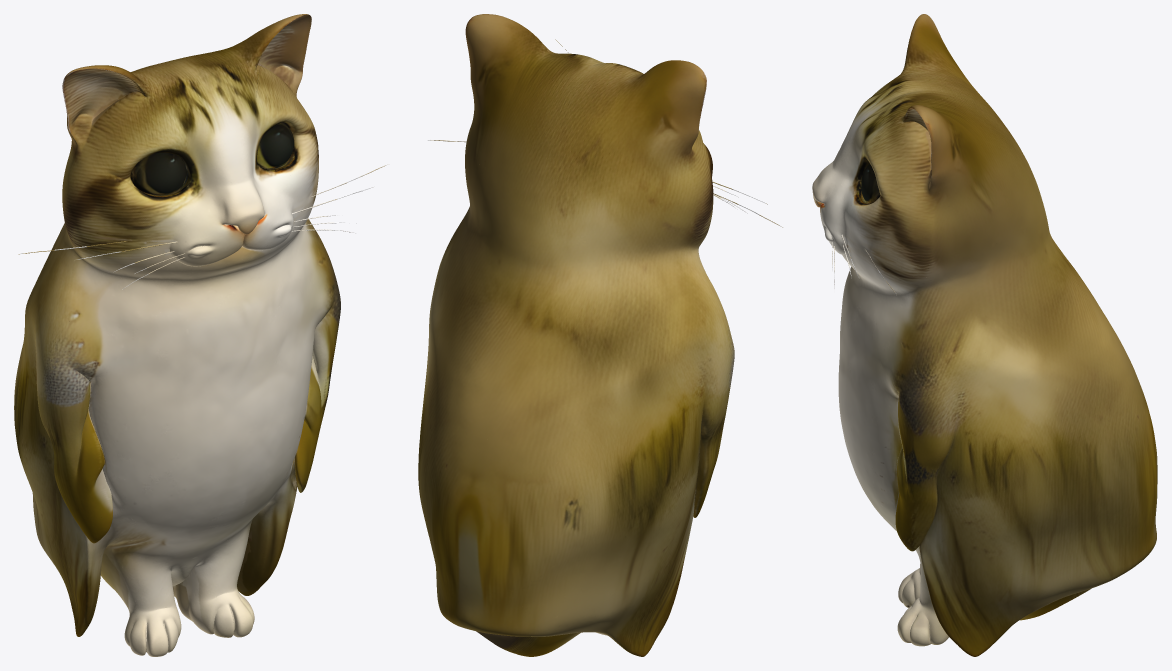
Rendered from meowl.glb.
The picture shows the model from 3 angles, left to right: view 1: azimuth 30°, elevation 25°; view 2: azimuth 150°, elevation 25°; view 3: azimuth 270°, elevation 25°; orthographic projection. The views are drawn at different scales.
Visible parts, largest first — view 1: Object_3, Object_4, Object_5, Object_6, Object_7, Object_8; view 2: Object_5, Object_4, Object_3, Object_6, Object_7, Object_8; view 3: Object_4, Object_6, Object_5, Object_7, Object_3, Object_8.
Boxes of the visible parts, bbox=[...] form: Object_3: bbox=[26, 65, 312, 542]; Object_4: bbox=[14, 14, 340, 576]; Object_5: bbox=[14, 15, 339, 655]; Object_6: bbox=[15, 38, 338, 656]; Object_7: bbox=[18, 14, 388, 656]; Object_8: bbox=[28, 34, 337, 604]; Object_5: bbox=[418, 28, 730, 647]; Object_4: bbox=[439, 14, 734, 595]; Object_3: bbox=[484, 66, 767, 511]; Object_6: bbox=[418, 38, 723, 656]; Object_7: bbox=[418, 14, 782, 656]; Object_8: bbox=[438, 33, 719, 573]; Object_4: bbox=[816, 15, 1075, 584]; Object_6: bbox=[895, 111, 1156, 656]; Object_5: bbox=[852, 14, 1157, 604]; Object_7: bbox=[832, 105, 1157, 655]; Object_3: bbox=[812, 14, 1078, 526]; Object_8: bbox=[899, 109, 1141, 582].
Bounding box in the file's own units: 1.16 × 1.79 × 1.
Materials: 1 (1 with a texture image).
